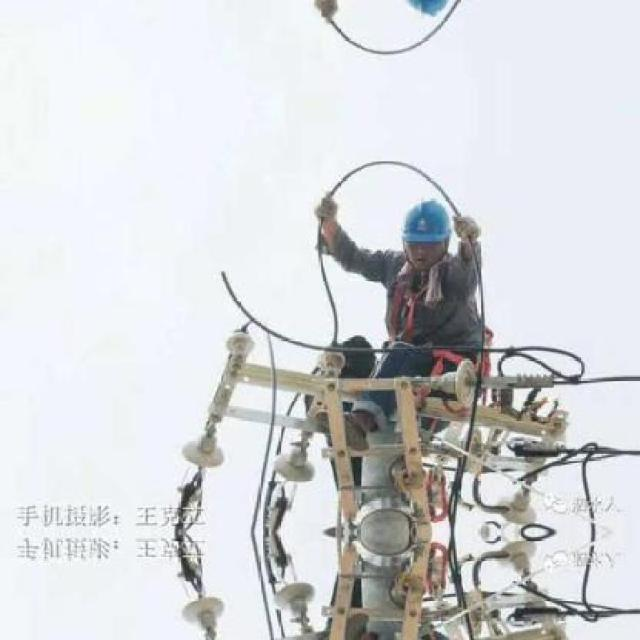helmet: (395, 193, 454, 272), (396, 0, 456, 20)
